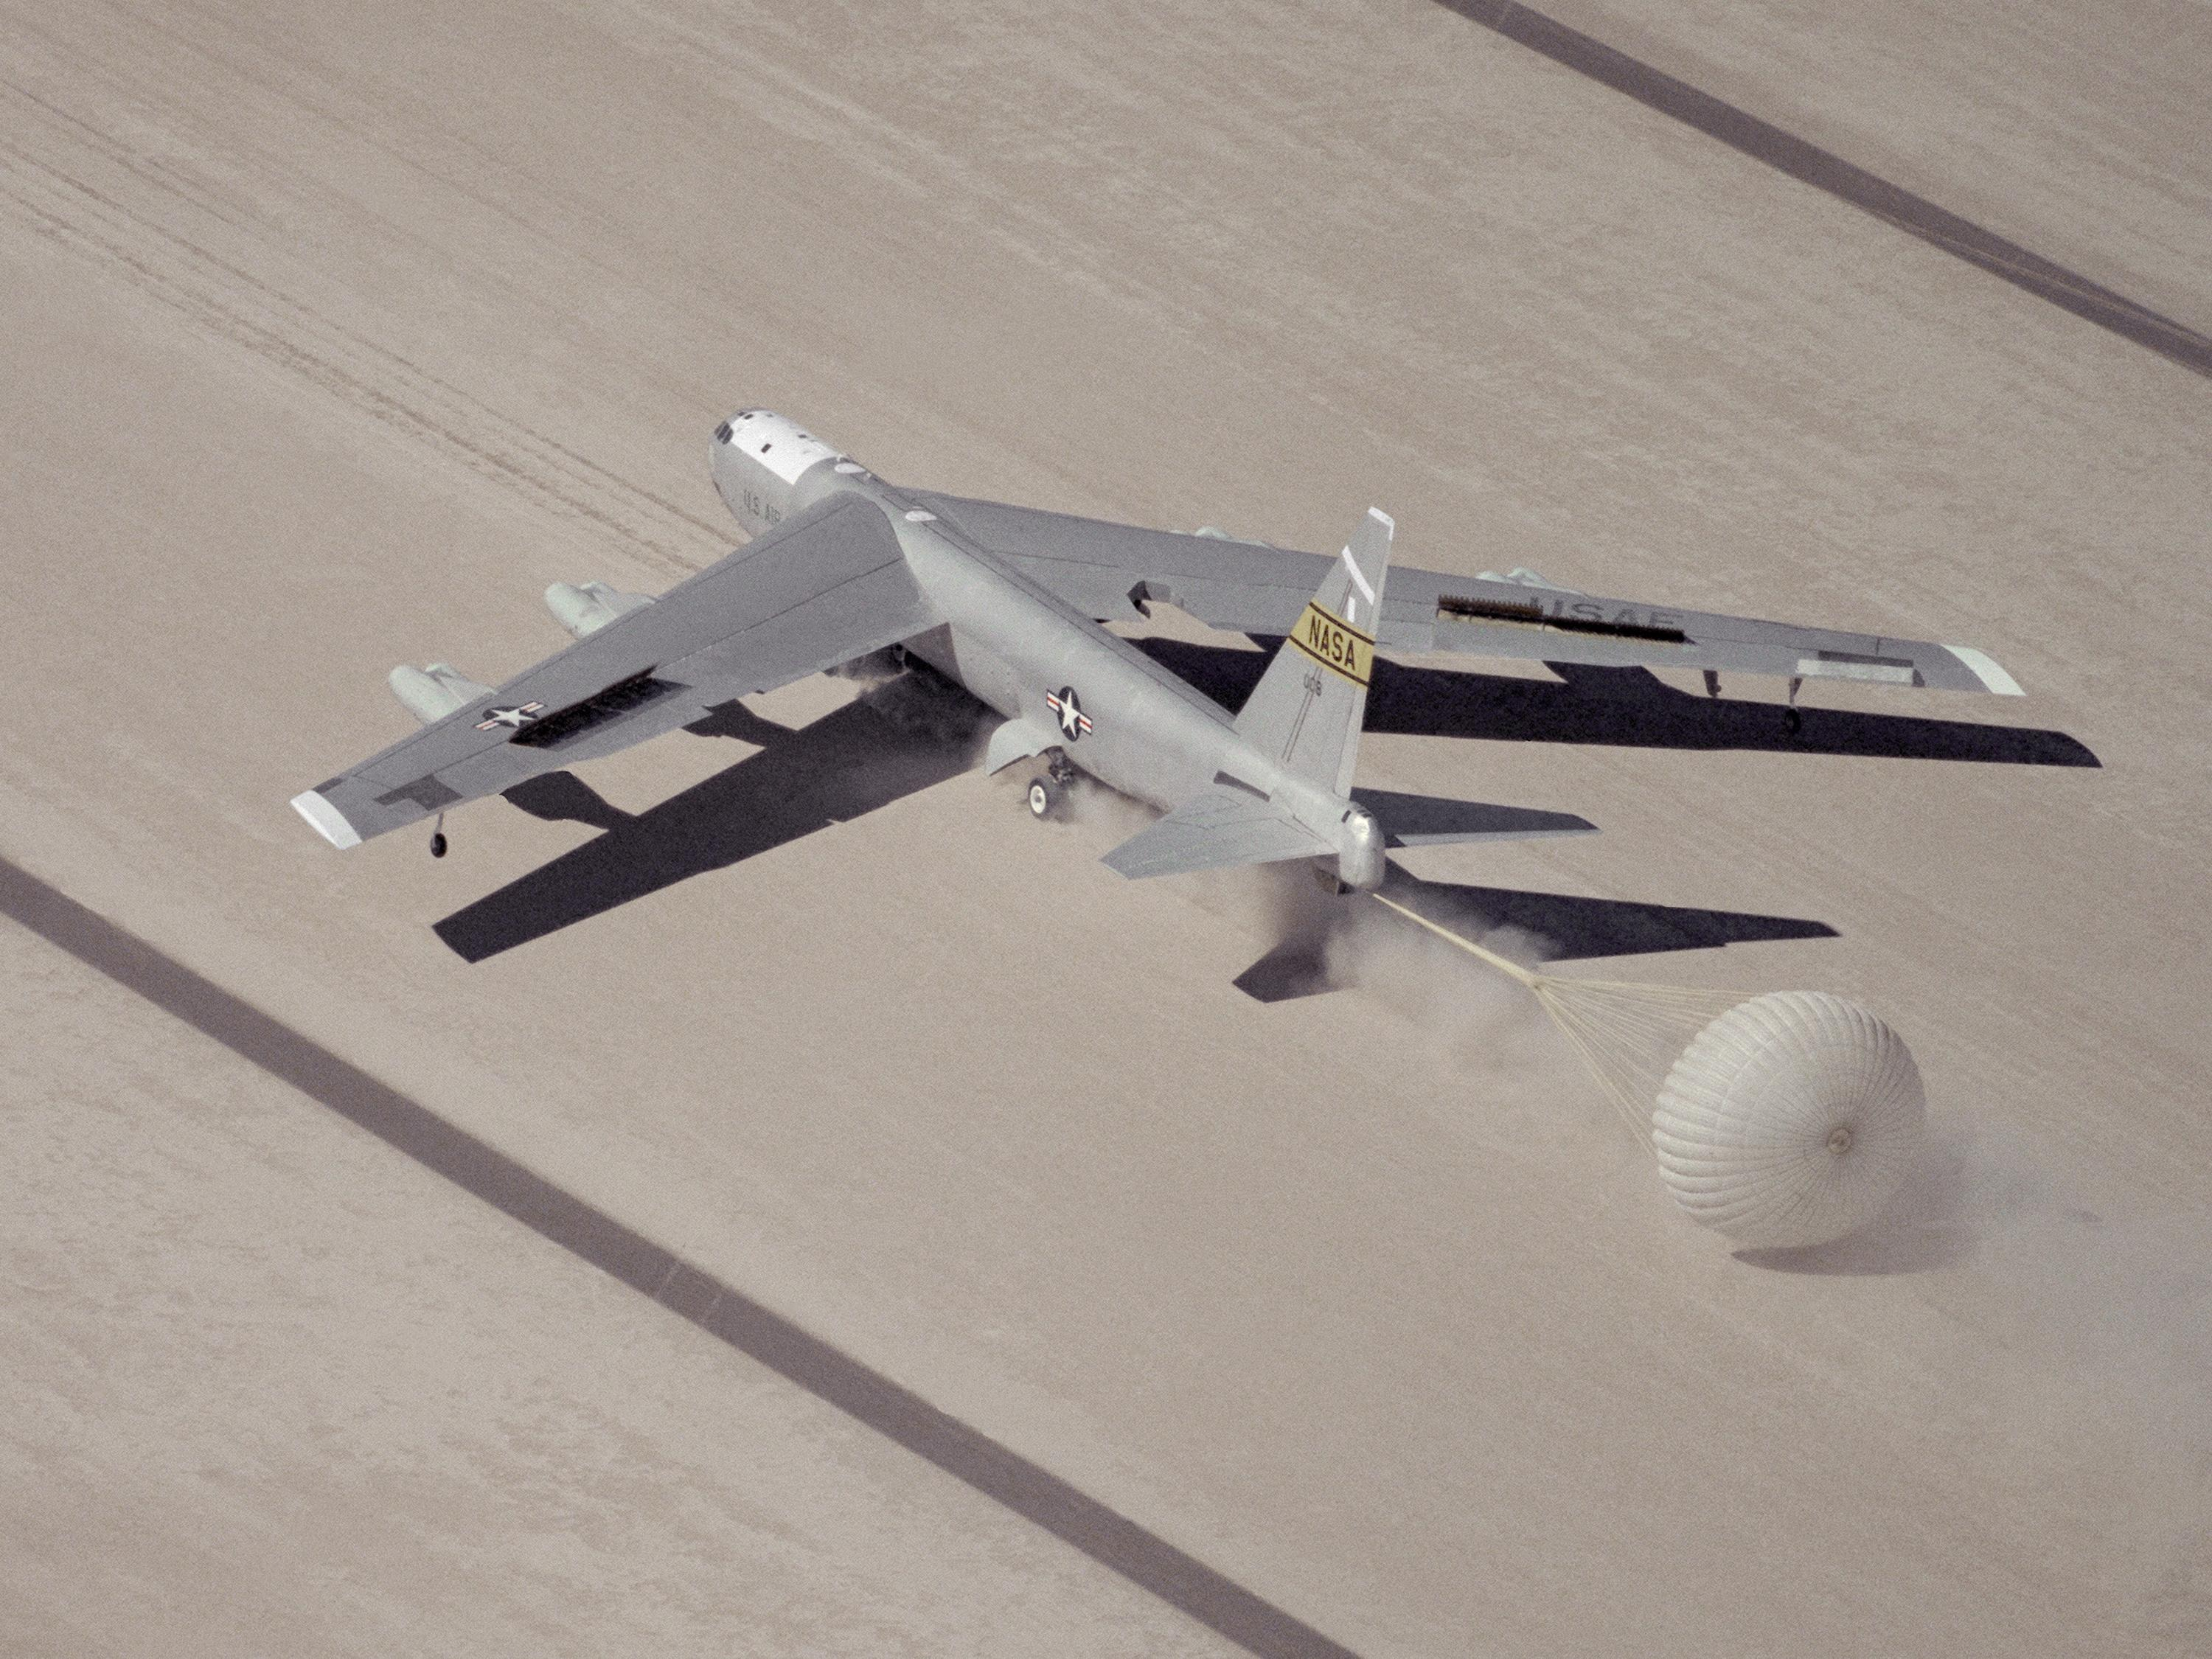B52: (289, 406, 2027, 897)
